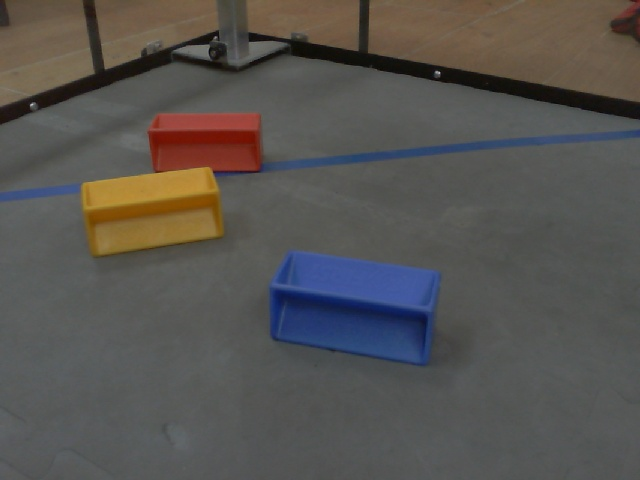BlueSample: (263, 243, 443, 372)
RedSample: (143, 104, 266, 179)
YellowSample: (77, 162, 223, 261)
